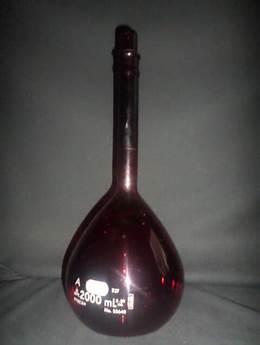Volumetric flask: (58, 19, 195, 335)
